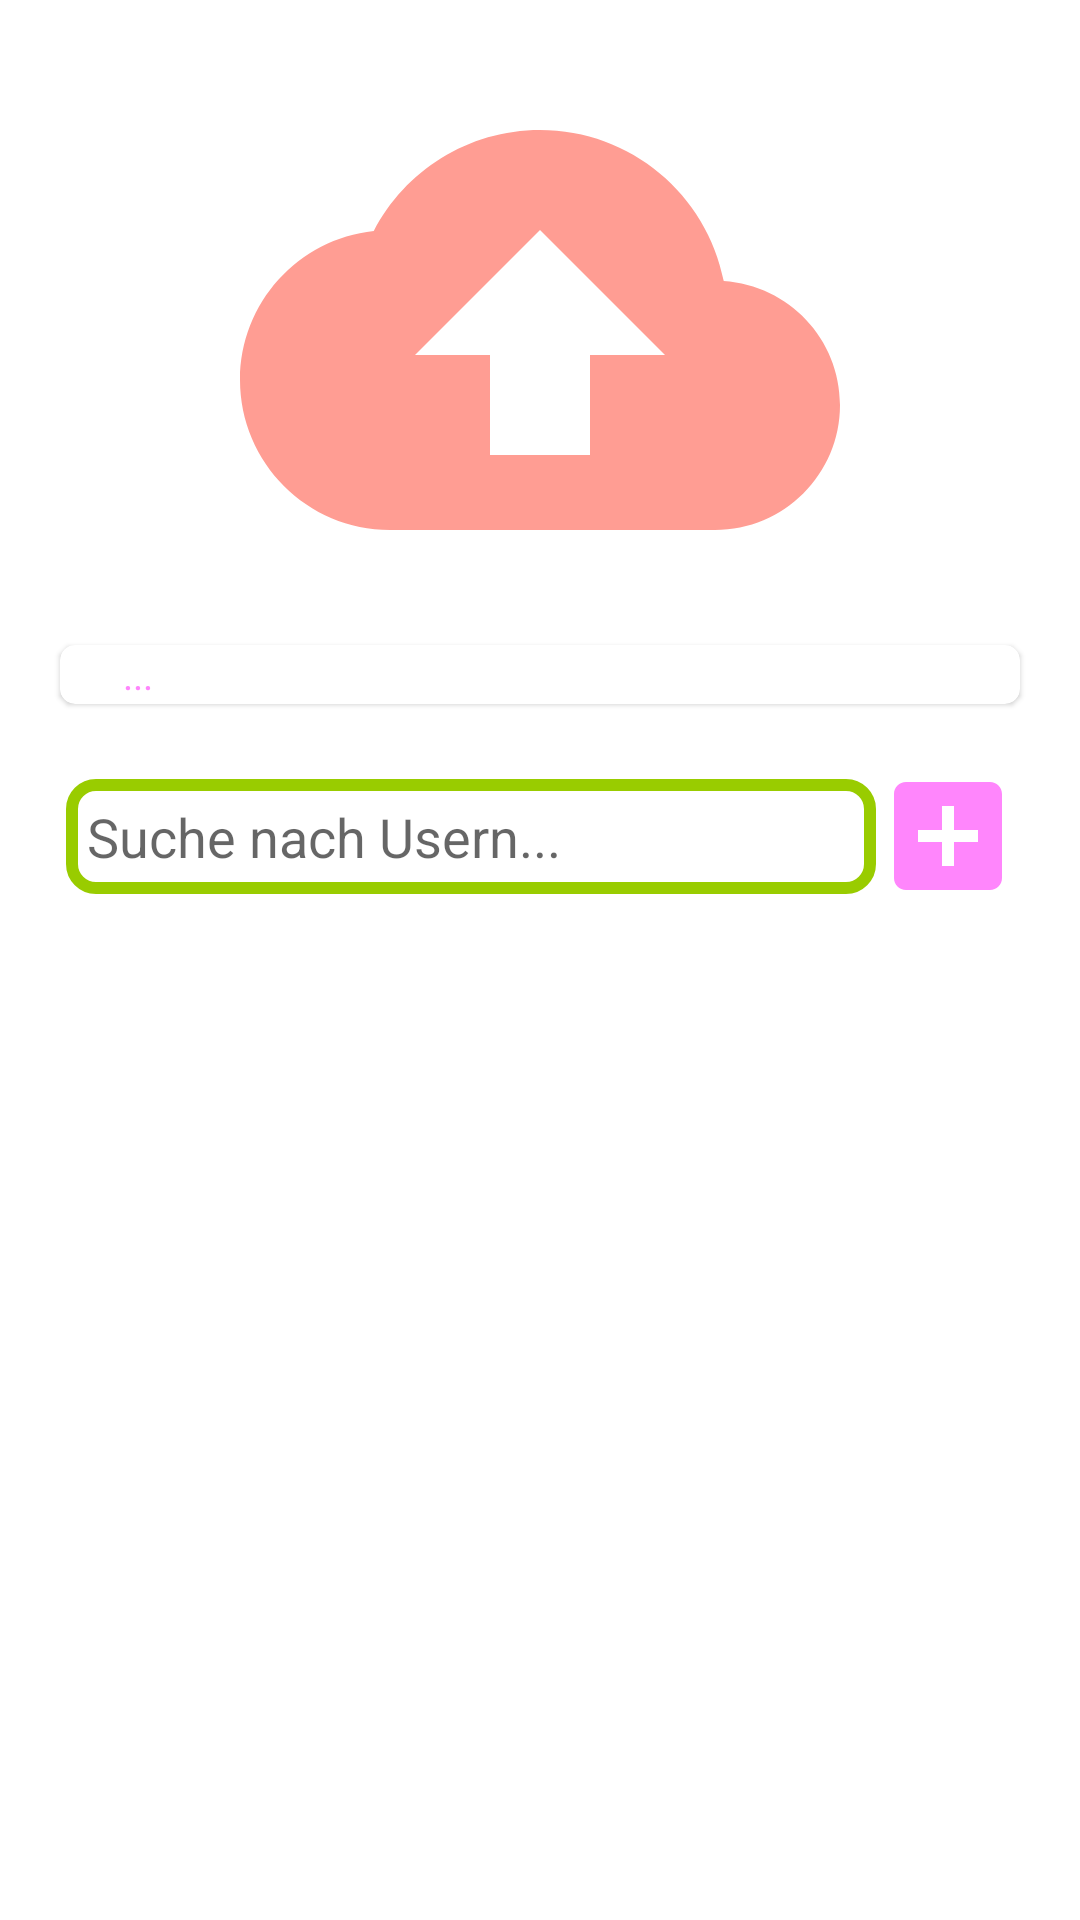

Where icons sit on this 1080 x 1920 app screen, as (x1, y1, x2, y2):
add box: (894, 782, 1002, 890)
